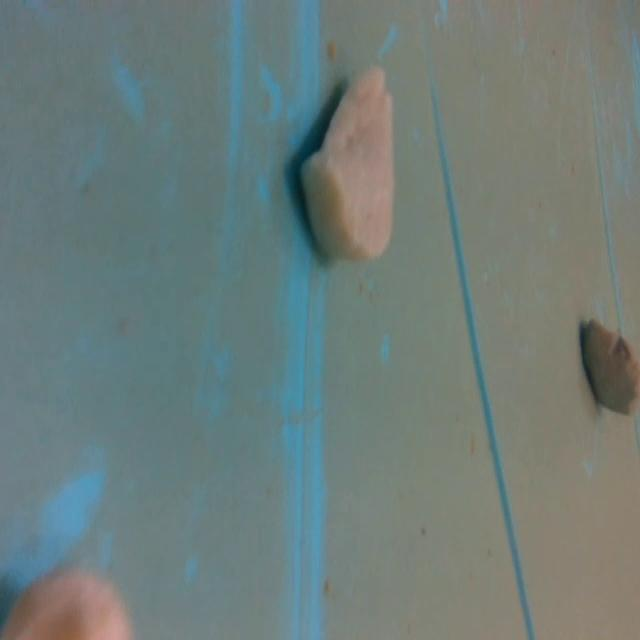rock: (296, 57, 401, 268), (576, 310, 640, 415)
